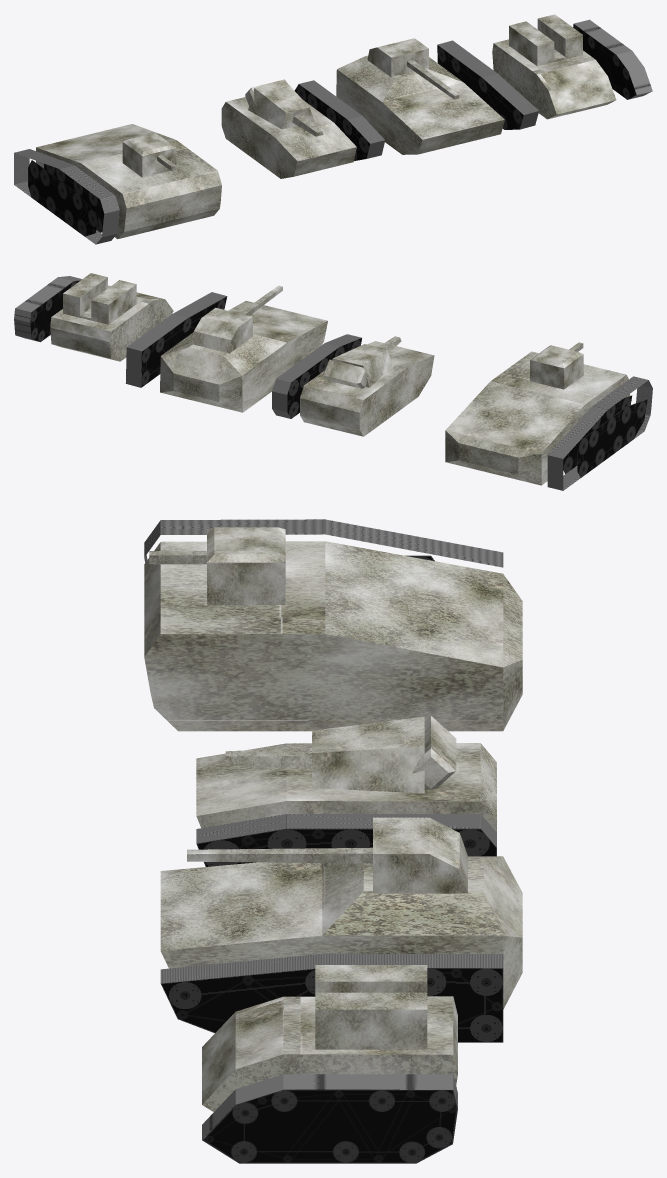
Rendered from tanks 1.fbx.
The picture shows the model from 3 angles, top to bottom: view 1: azimuth 30°, elevation 25°; view 2: azimuth 150°, elevation 25°; view 3: azimuth 270°, elevation 25°; orthographic projection. The views are drawn at different scales.
Parts seen in each view (by area): view 1: Cube.001, Cube.002, Cube, Cube.003, Cube.015, Cube.007, Cube.014, Cube.005, Cube.006, Cube.004, Cube.011, Cube.008 (+4 smaller); view 2: Cube.002, Cube.001, Cube, Cube.003, Cube.015, Cube.014, Cube.007, Cube.006, Cube.005, Cube.004, Cube.008, Cube.011 (+4 smaller); view 3: Cube.002, Cube.001, Cube.013, Cube.003, Cube, Cube.005, Cube.011, Cube.007, Cube.006, Cube.004, Cube.014, Cube.008 (+3 smaller).
Boxes of the visible parts, box(x1,y1,x2,y2) form: Cube.001: box(336, 55, 504, 154); Cube.002: box(36, 124, 221, 239); Cube: box(221, 97, 356, 178); Cube.003: box(492, 39, 616, 119); Cube.015: box(28, 160, 104, 236); Cube.007: box(509, 14, 582, 66); Cube.014: box(14, 149, 119, 244); Cube.005: box(245, 79, 323, 136); Cube.006: box(367, 38, 459, 99); Cube.004: box(122, 133, 176, 177); Cube.011: box(437, 45, 523, 129); Cube.008: box(438, 40, 538, 129); Cube.002: box(445, 351, 629, 485); Cube.001: box(160, 301, 327, 412); Cube: box(300, 341, 434, 436); Cube.003: box(50, 285, 173, 361); Cube.015: box(563, 395, 647, 477); Cube.014: box(547, 376, 652, 490); Cube.007: box(63, 273, 136, 324); Cube.006: box(192, 285, 282, 353); Cube.005: box(323, 336, 401, 388); Cube.004: box(530, 342, 583, 389); Cube.008: box(125, 292, 226, 387); Cube.011: box(141, 296, 227, 387); Cube.002: box(144, 541, 522, 731); Cube.001: box(160, 856, 522, 1009); Cube.013: box(202, 1089, 457, 1163); Cube.003: box(202, 996, 457, 1111); Cube: box(196, 743, 496, 832); Cube.005: box(225, 716, 456, 793); Cube.011: box(161, 968, 503, 1042); Cube.007: box(315, 965, 427, 1049); Cube.006: box(187, 817, 468, 893); Cube.004: box(149, 527, 285, 605); Cube.014: box(144, 519, 503, 567); Cube.008: box(160, 953, 503, 983).
Bounding box in the file's own units: 1875 × 231 × 548.
